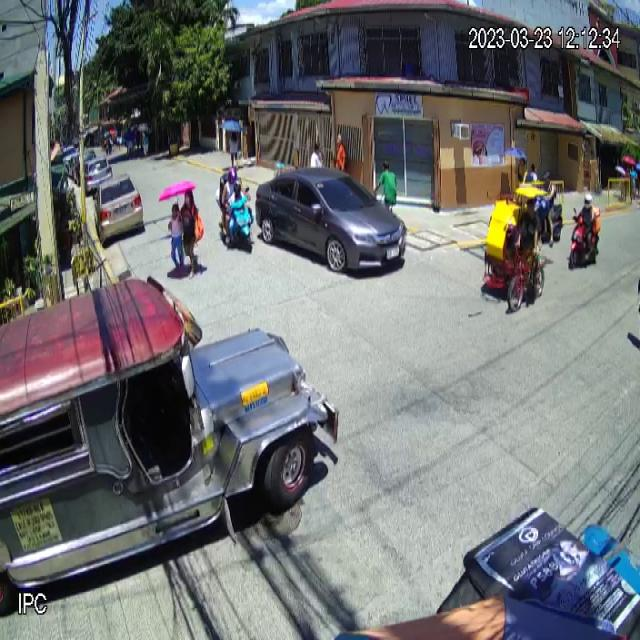Car: (255, 165, 409, 281)
Jeep: (0, 272, 340, 612)
